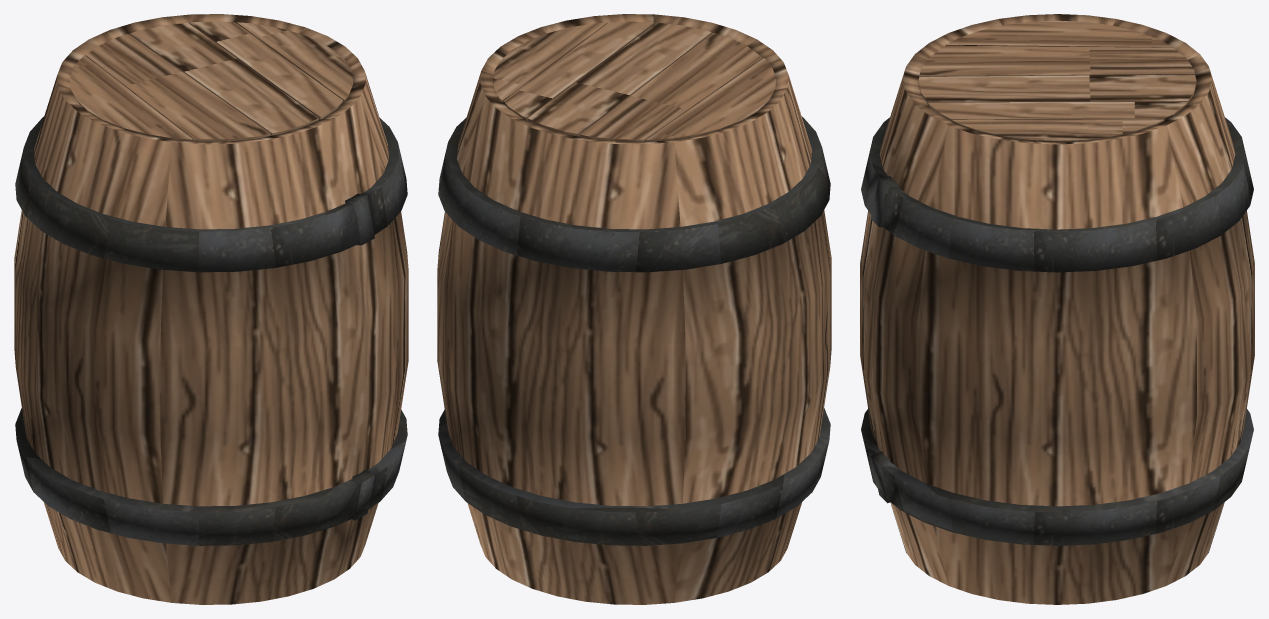
Rendered from LP_Barrel.glb.
The picture shows the model from 3 angles, left to right: view 1: azimuth 30°, elevation 25°; view 2: azimuth 150°, elevation 25°; view 3: azimuth 270°, elevation 25°; orthographic projection.
Parts seen in each view (by area): view 1: Barrel; view 2: Barrel; view 3: Barrel.
Part boxes in pixels (box(x1,y1,x2,y2)): Barrel: box(14, 14, 408, 604); Barrel: box(437, 14, 831, 604); Barrel: box(860, 14, 1254, 604).
Size of the model in its own units: 0.8369 by 1.08 by 0.8369.
Materials: 2 (2 with a texture image).
